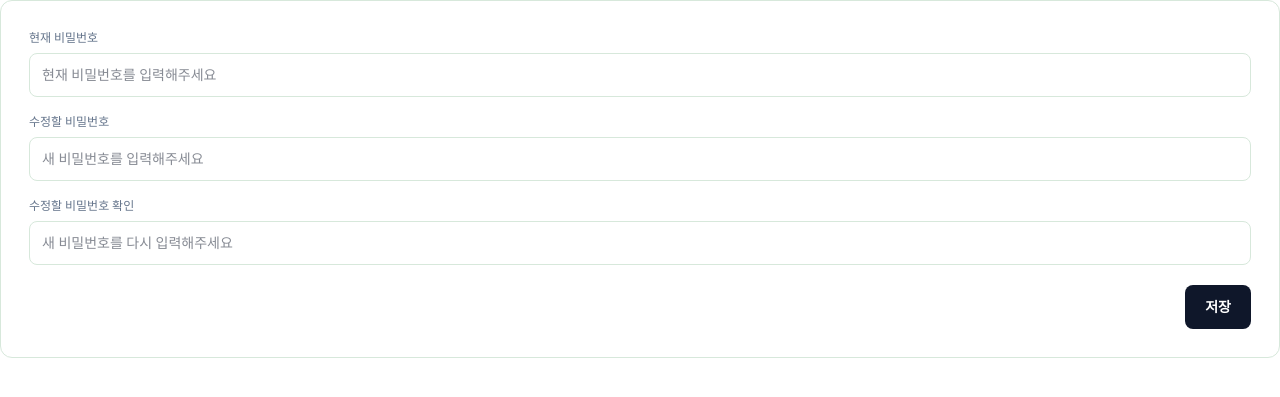
MyPassword › 현재 비밀번호와 새 비밀번호가 같으면 에러 메시지를 노출하고 변경하지 않는다
Step 1. Type "samepass1234" into the password field with placeholder "현재 비밀번호를 입력해주세요" → (640, 75), box [29, 53, 1251, 97]
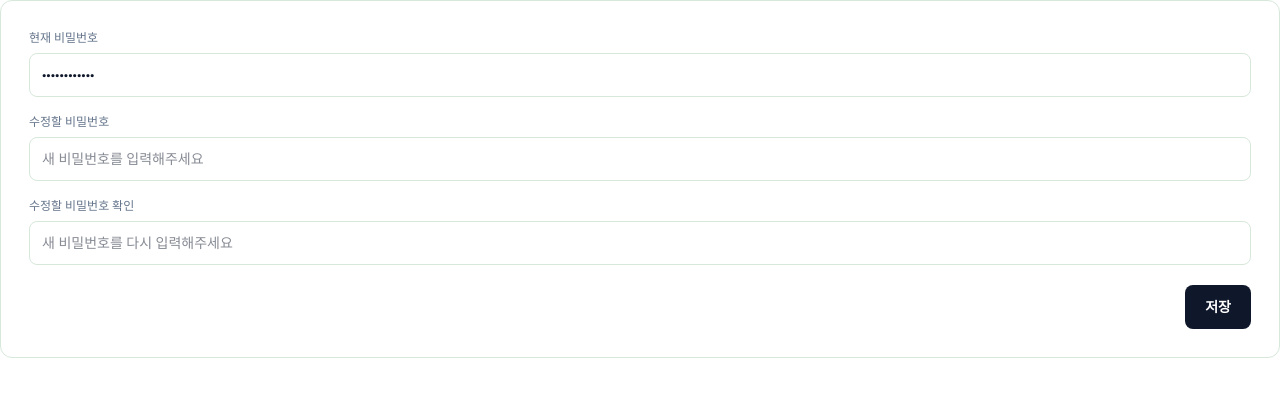
Step 2. Type "samepass1234" into the password field with placeholder "새 비밀번호를 입력해주세요" → (640, 159), box [29, 137, 1251, 181]
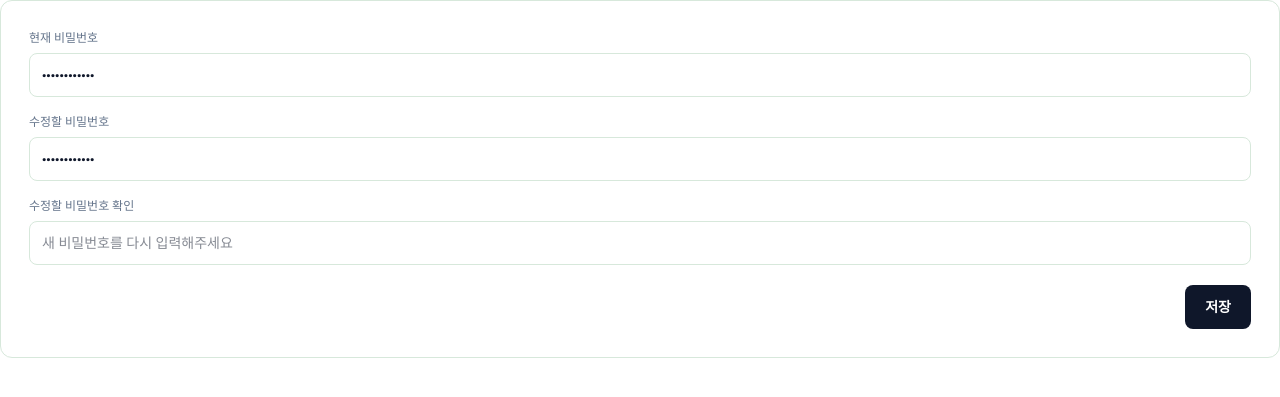
Step 3. Type "samepass1234" into the password field with placeholder "새 비밀번호를 다시 입력해주세요" → (640, 243), box [29, 221, 1251, 265]
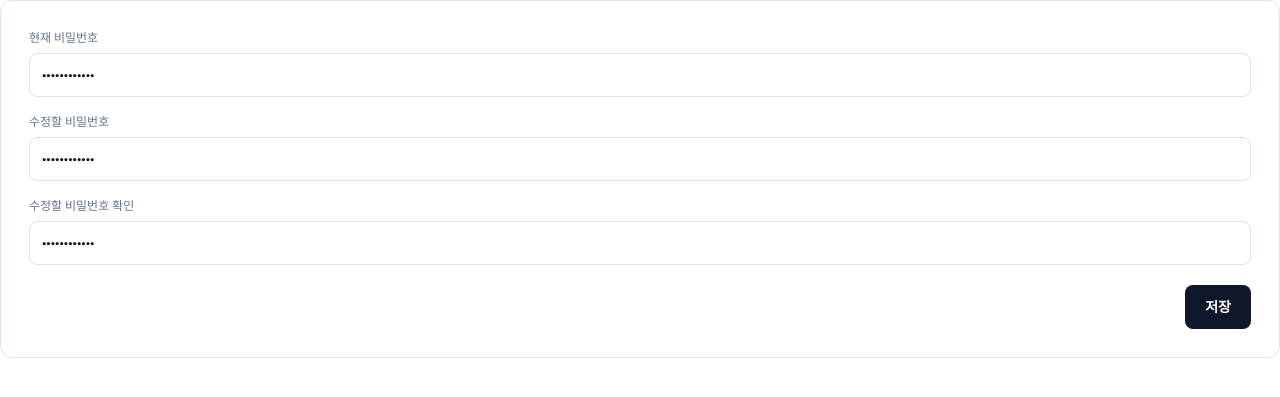
Step 4. Click the button "저장" → (1218, 307), box [1185, 285, 1251, 329]
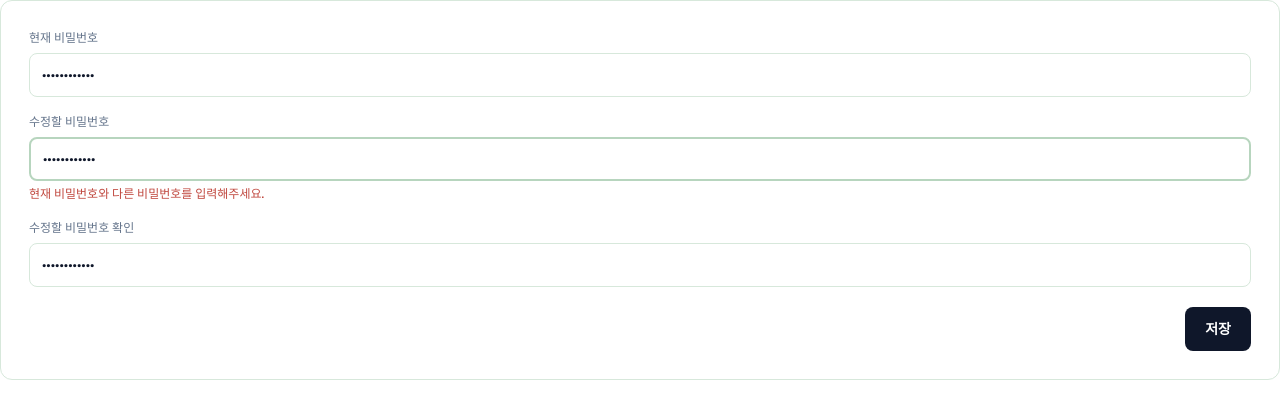
Expected: the text "현재 비밀번호와 다른 비밀번호를 입력해주세요." is shown, [29, 186, 264, 202]
